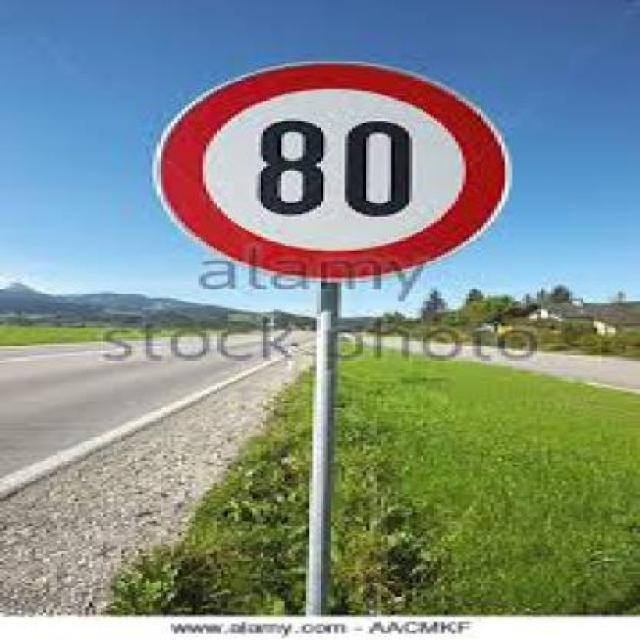forb_speed_over_80: (174, 82, 494, 260)
